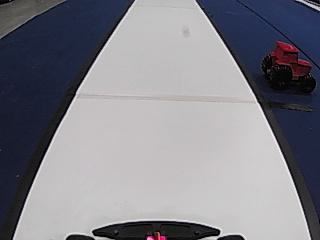Tracktor: (260, 38, 315, 93)
